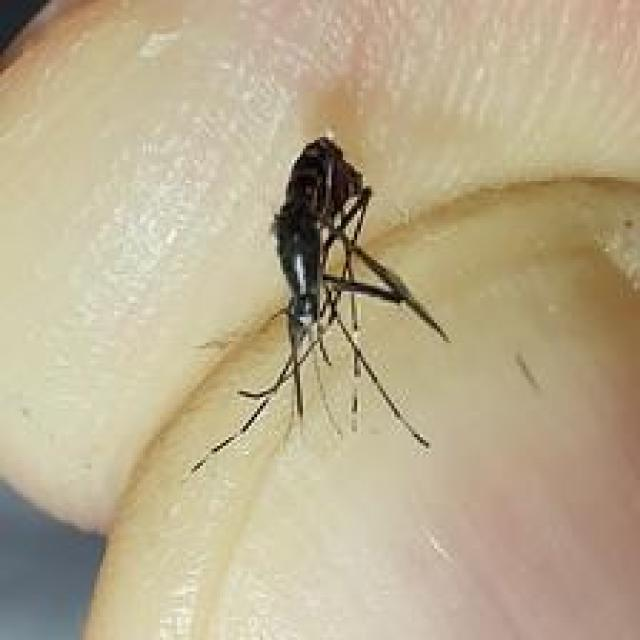Aedes albopictus: (186, 133, 451, 478)
